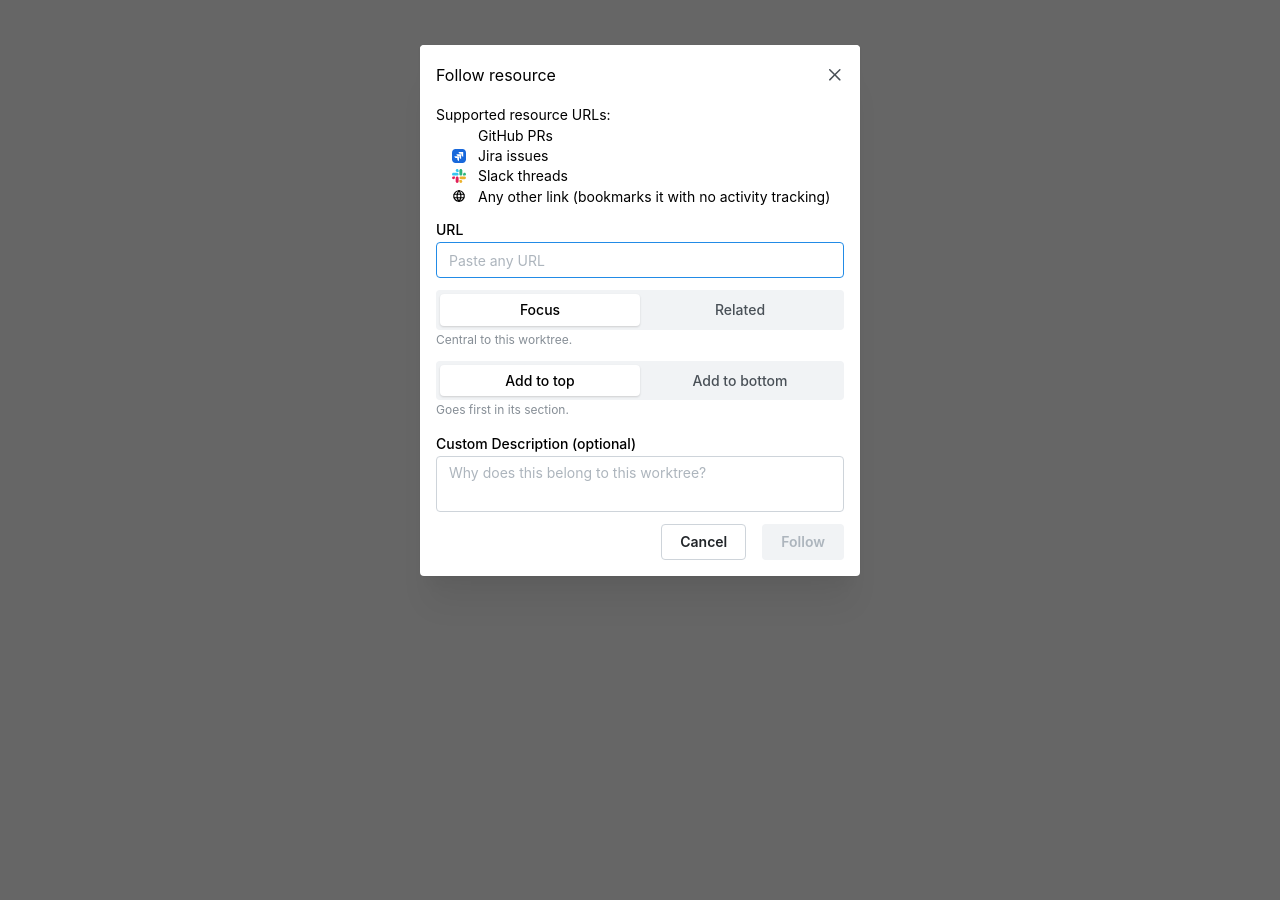
Scenario: AddResourceModal › offers a custom name for a link, as it does for a Slack thread
Type "https://ex.com/a" into the field labelled "URL" at (640, 260), box [436,242,844,278]
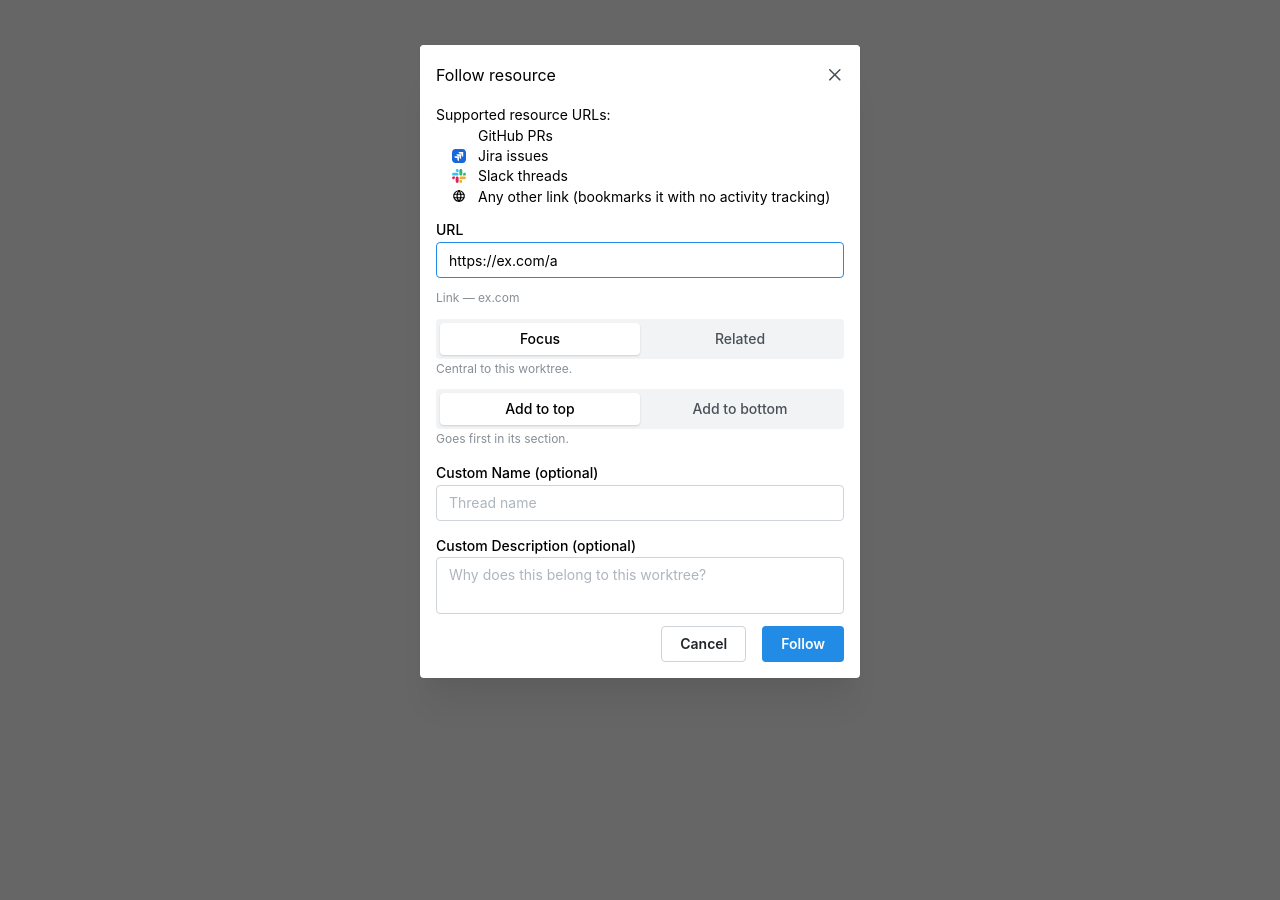
expect the field labelled "Custom Name (optional)" is shown: met, box [436,485,844,521]
